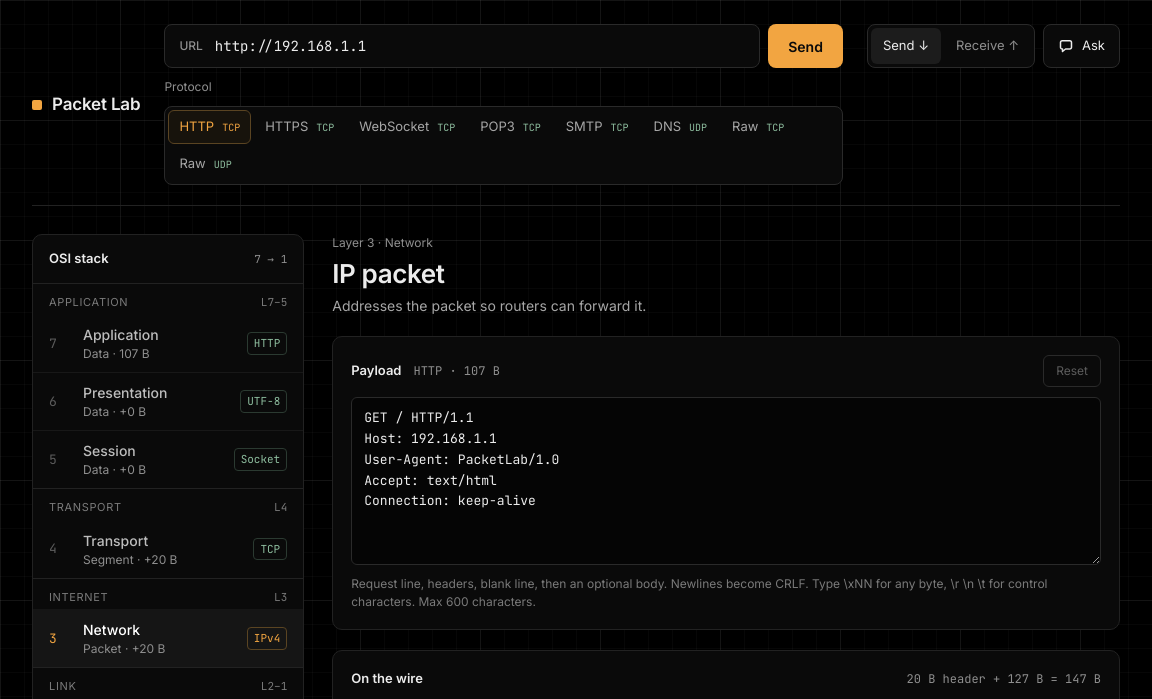
Scenario: App › falls back to the default URL when sending an empty address
The image size is (1152, 699).
Click the button "POP3 TCP" at [510, 127], box [469,110,552,144]
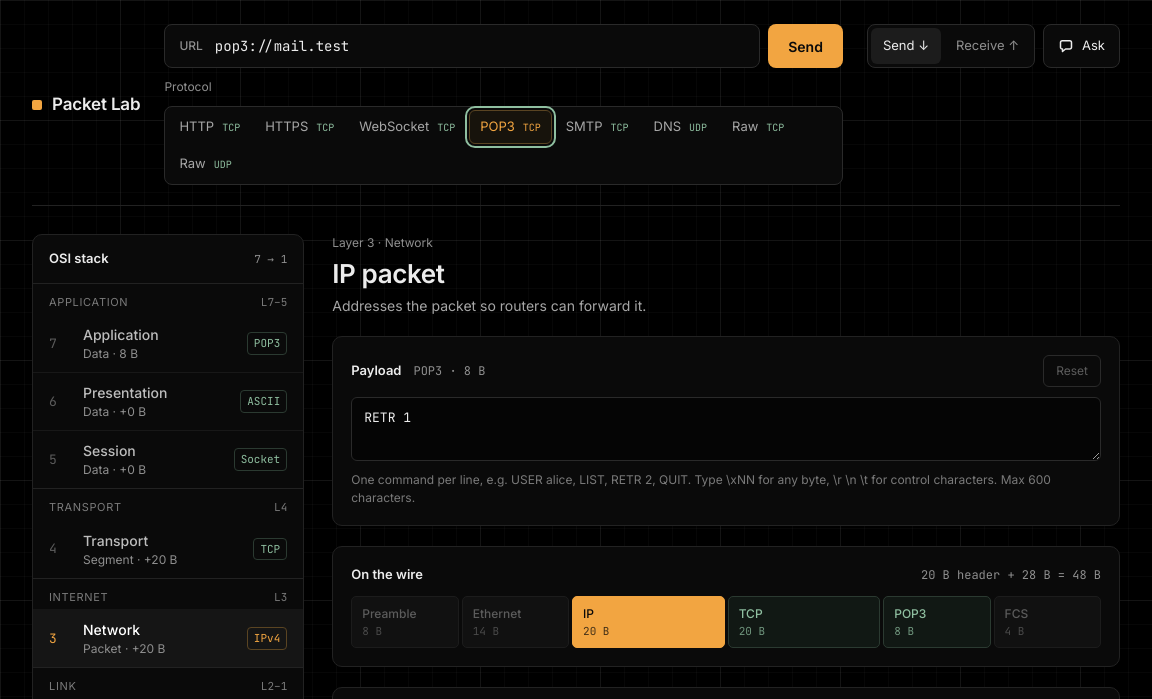
Clear the field labelled "URL" at [480, 46], box [215,26,745,66]
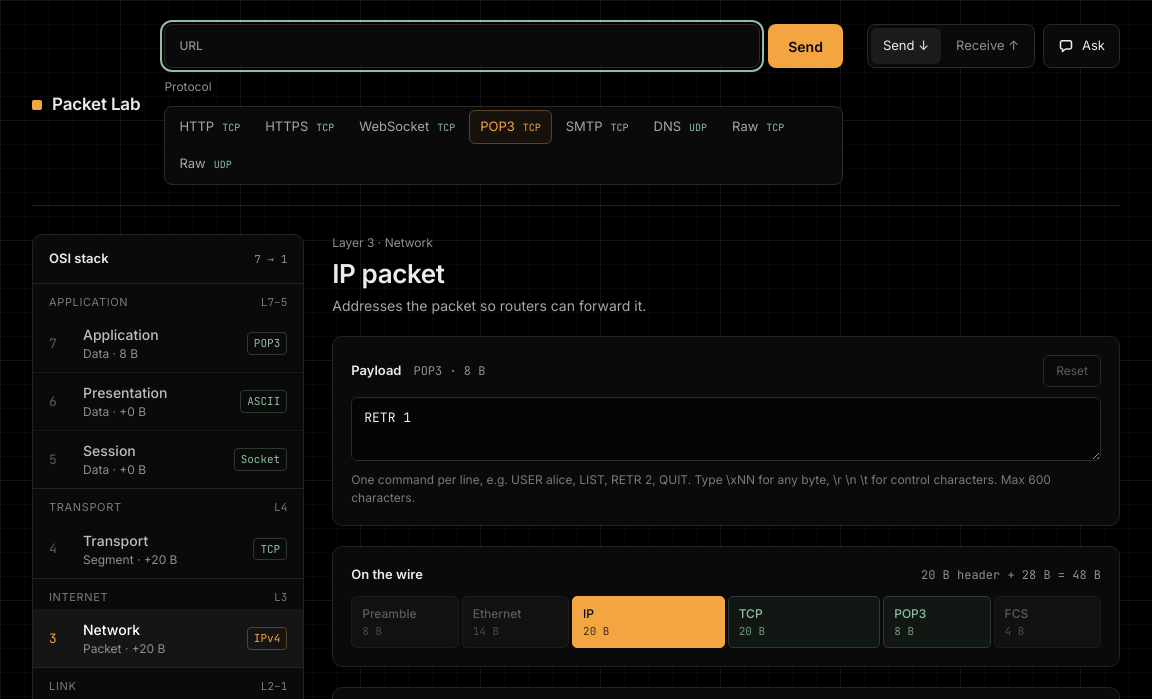
Click the button "Send" at [806, 46], box [768,24,843,68]
(page scrolled)
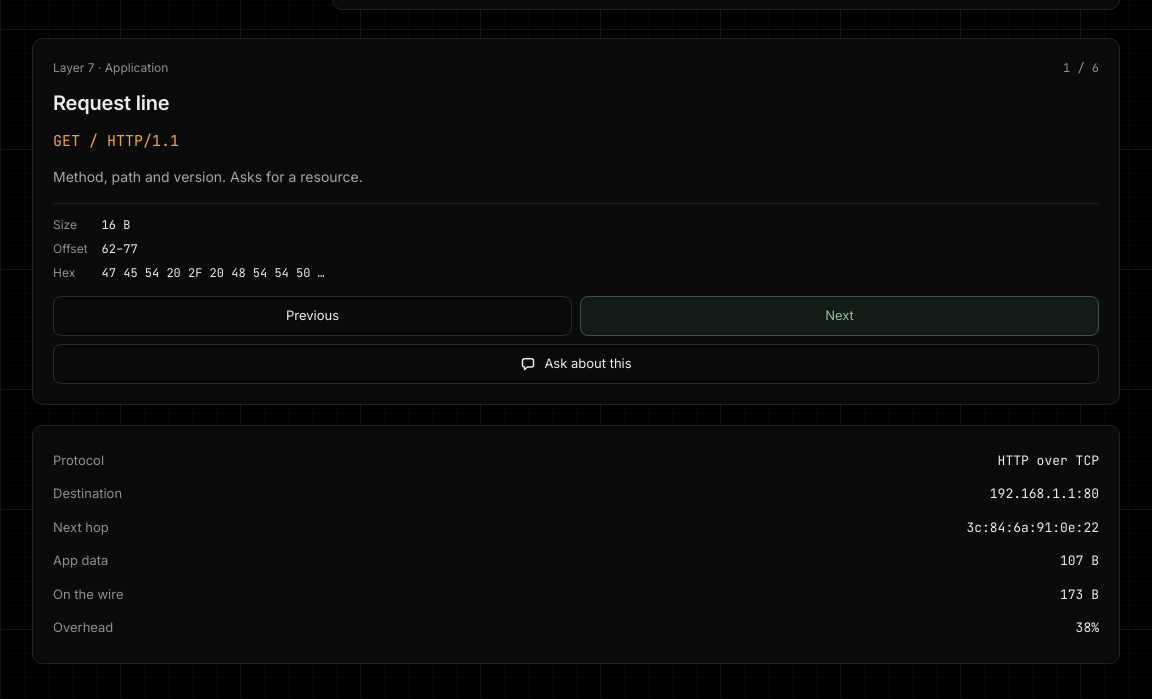
Check: the text "HTTP over TCP" is shown, box [998,451,1099,470]
